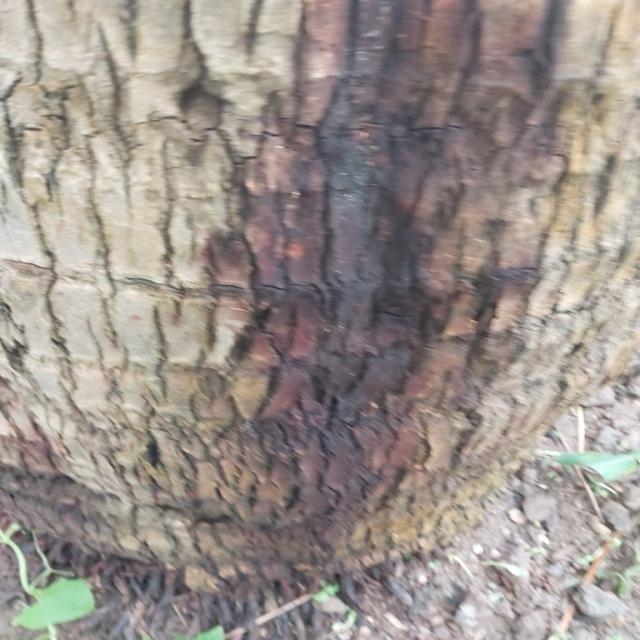stembleeding: (138, 5, 540, 564)
